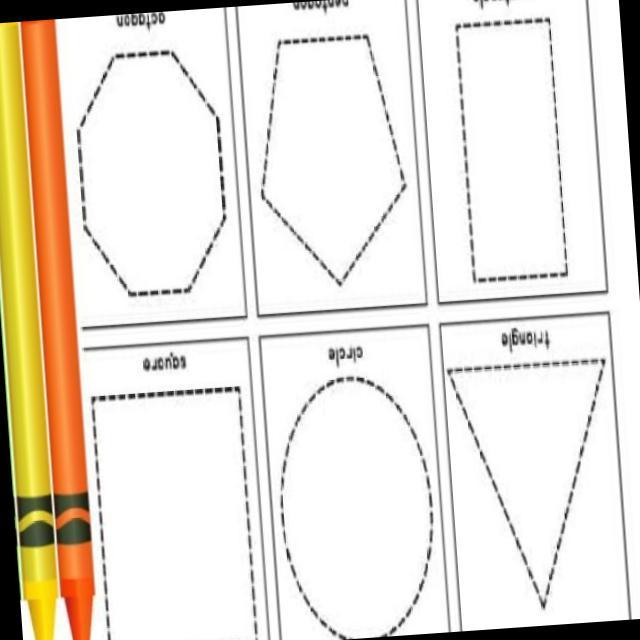circle: (263, 360, 447, 640)
square: (83, 374, 269, 640), (448, 6, 576, 296)
triangle: (443, 324, 627, 624)
